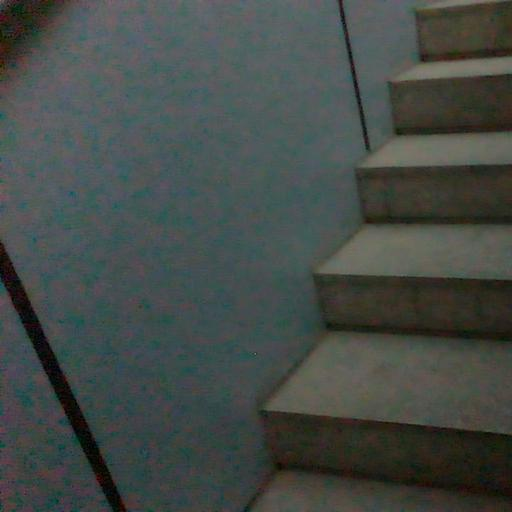stairs: (253, 0, 511, 511)
